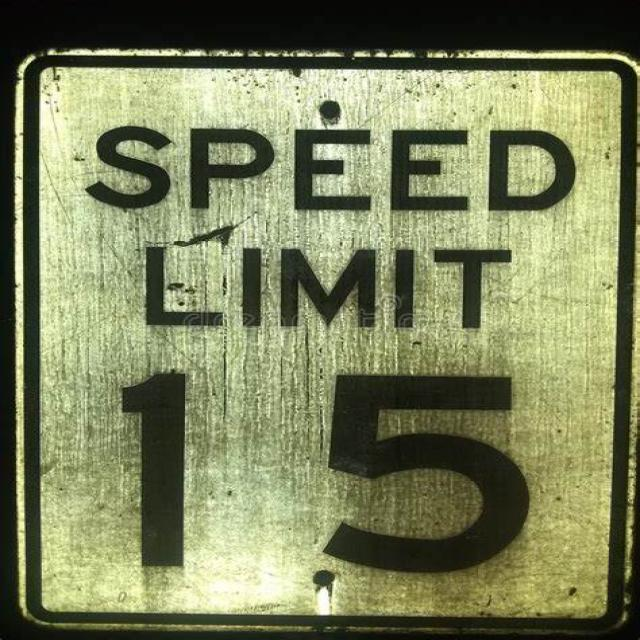speedLimit15: (15, 44, 624, 628)
